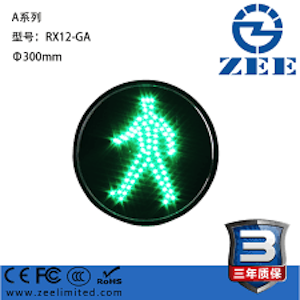green: (100, 84, 191, 220)
